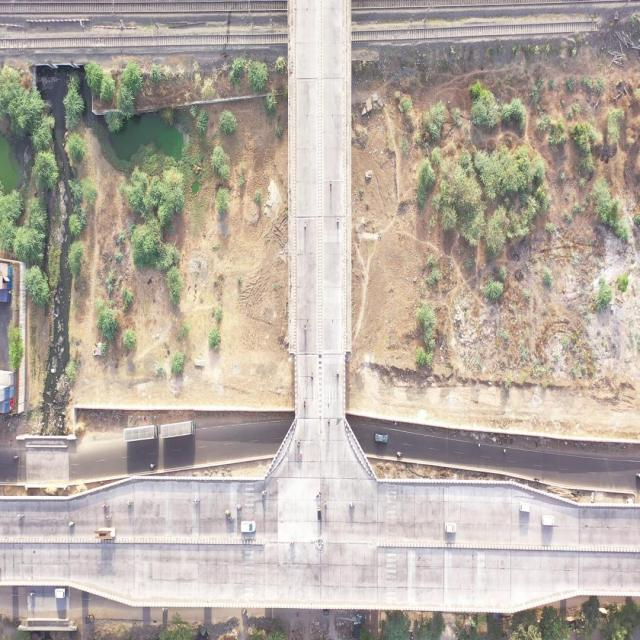3W: (85, 614, 93, 625), (317, 505, 322, 521)
Bus: (123, 424, 159, 443), (160, 420, 196, 439)
Cars: (241, 520, 257, 535), (541, 514, 555, 527), (375, 432, 389, 444), (54, 587, 67, 599), (444, 522, 457, 534), (519, 501, 532, 512), (13, 454, 20, 461)
LCV: (94, 527, 117, 540)
M2W: (316, 489, 322, 501), (17, 513, 26, 520), (67, 520, 76, 527), (104, 514, 113, 521), (348, 500, 355, 509), (323, 498, 328, 509), (310, 369, 315, 380), (126, 499, 135, 505), (336, 217, 340, 230), (29, 591, 36, 598), (242, 608, 249, 615), (397, 450, 404, 457), (102, 504, 110, 510), (303, 219, 307, 231), (329, 179, 333, 191), (298, 450, 303, 459), (303, 322, 307, 333), (149, 463, 156, 469), (228, 516, 235, 522), (237, 504, 243, 511), (261, 490, 268, 496), (289, 540, 295, 547), (193, 499, 201, 504), (225, 509, 231, 515), (304, 398, 307, 410), (502, 448, 509, 453), (328, 416, 331, 427), (337, 369, 340, 379)
